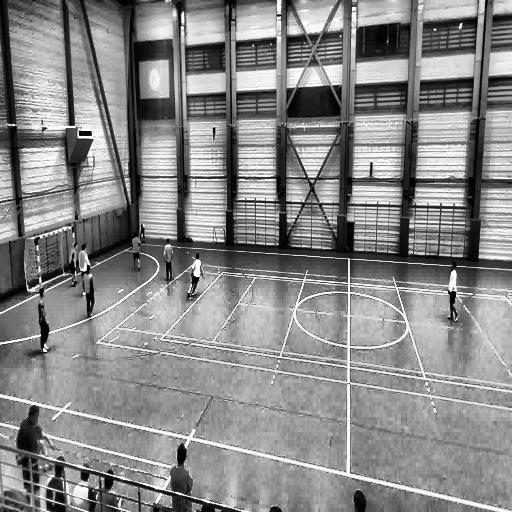ball: (139, 240, 141, 245)
player: (16, 402, 41, 512), (171, 443, 193, 512), (45, 454, 71, 510), (71, 459, 96, 512), (98, 468, 120, 512), (446, 261, 458, 321), (187, 250, 202, 298), (83, 265, 95, 320), (38, 297, 50, 352), (78, 242, 92, 279), (163, 238, 173, 282), (69, 244, 79, 288), (132, 232, 141, 271), (138, 220, 147, 246)
